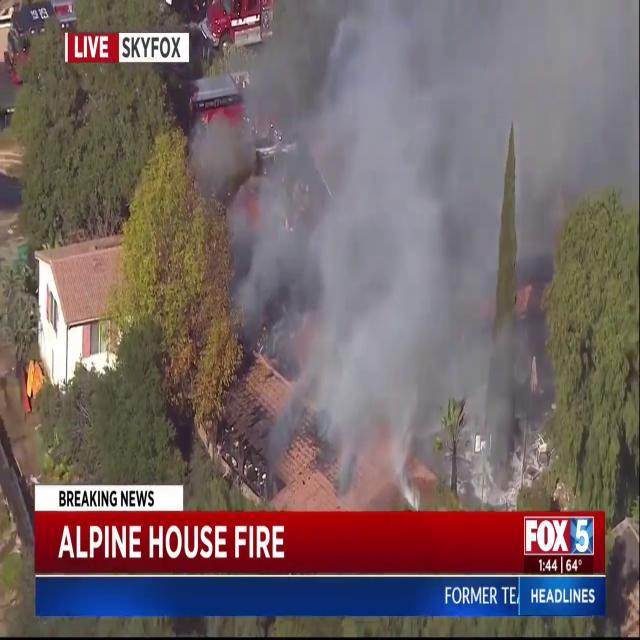Smoke: (210, 1, 536, 508)
